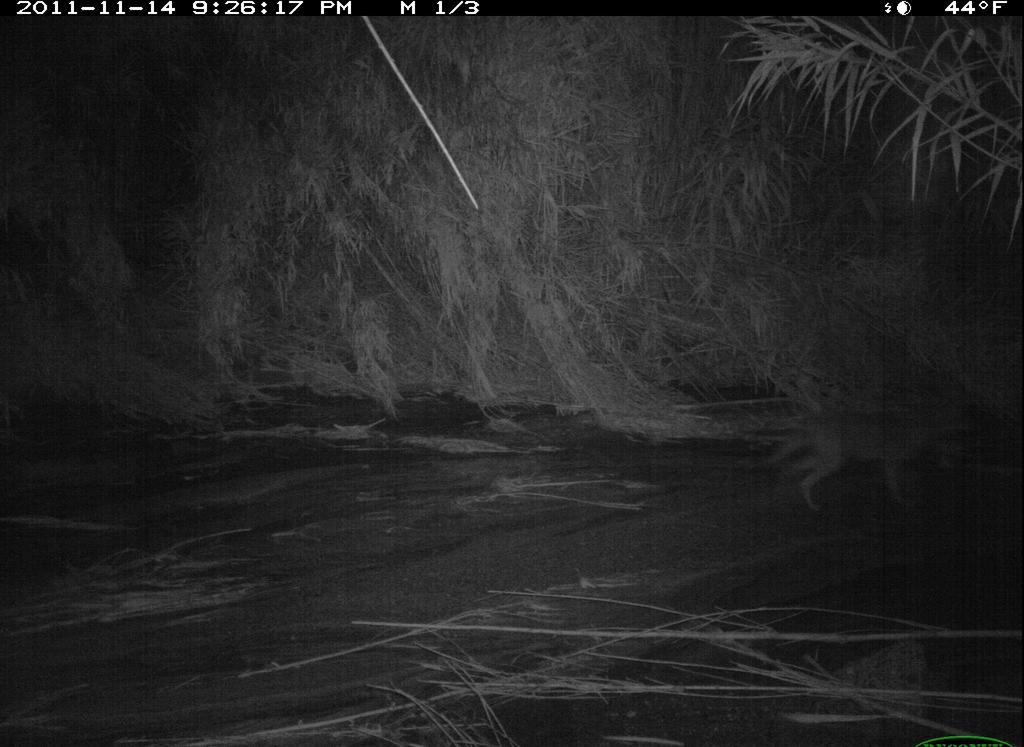coyote: (760, 402, 986, 521)
